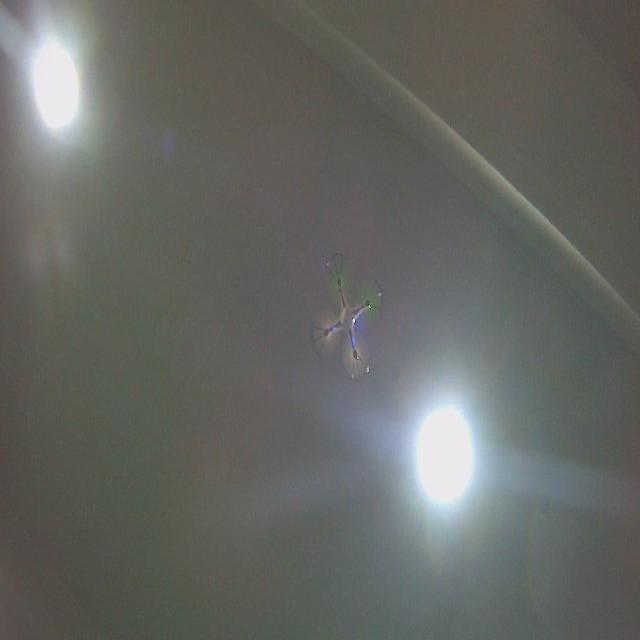drone: (307, 250, 387, 384)
